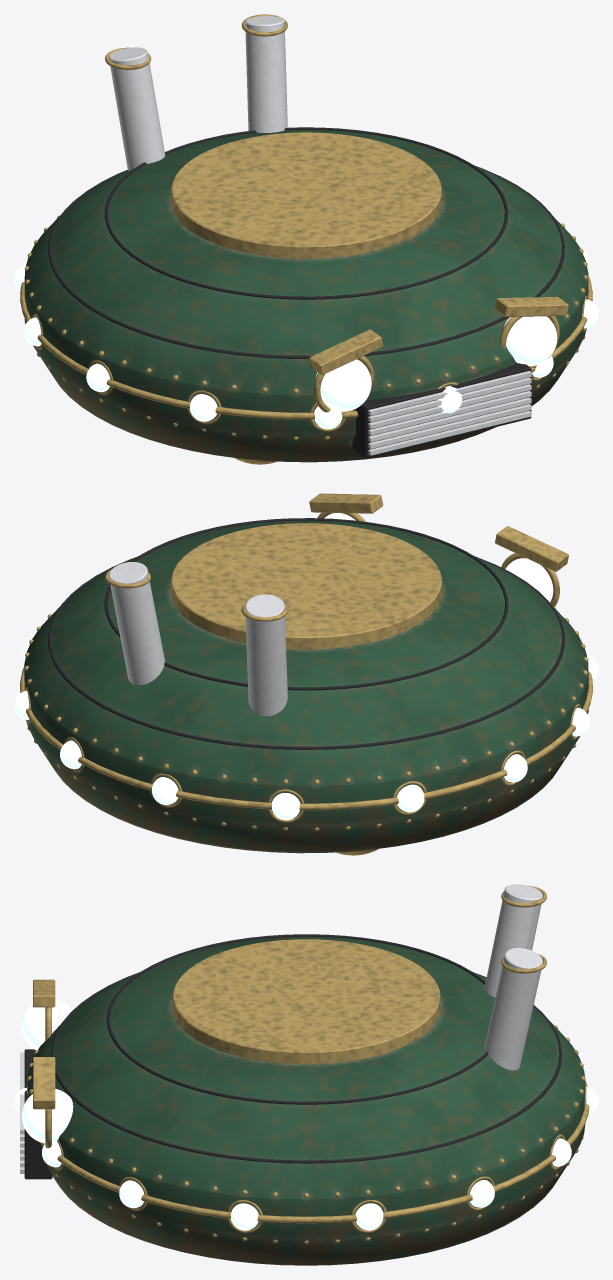
Rendered from colossus_hull.glb.
3 views of the same model, one above another, from view 1: azimuth 30°, elevation 25°; view 2: azimuth 150°, elevation 25°; view 3: azimuth 270°, elevation 25° (orthographic).
Visible parts, largest first — view 1: colossus_hull; view 2: colossus_hull; view 3: colossus_hull.
Boxes of the visible parts, box(x1,y1,x2,y2) form: colossus_hull: box(14, 14, 598, 464); colossus_hull: box(14, 493, 598, 855); colossus_hull: box(14, 884, 598, 1265).
Size of the model in its own units: 10.24 by 5.38 by 10.48.
Materials: 5 (3 with a texture image).
